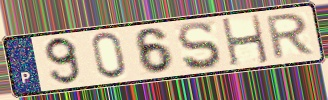0: (89, 30, 129, 82)
6: (132, 25, 176, 77)
9: (42, 36, 83, 87)
H: (219, 13, 272, 68)
R: (264, 11, 317, 62)
S: (175, 20, 224, 72)
